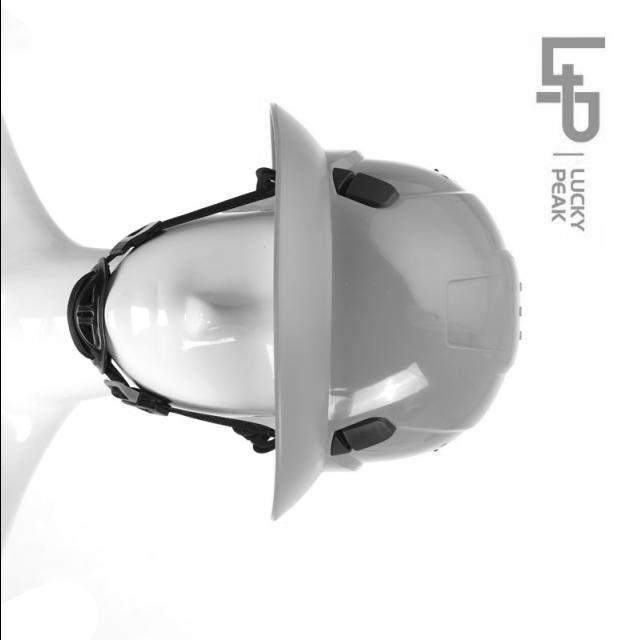safety_helmet: (206, 103, 519, 522)
